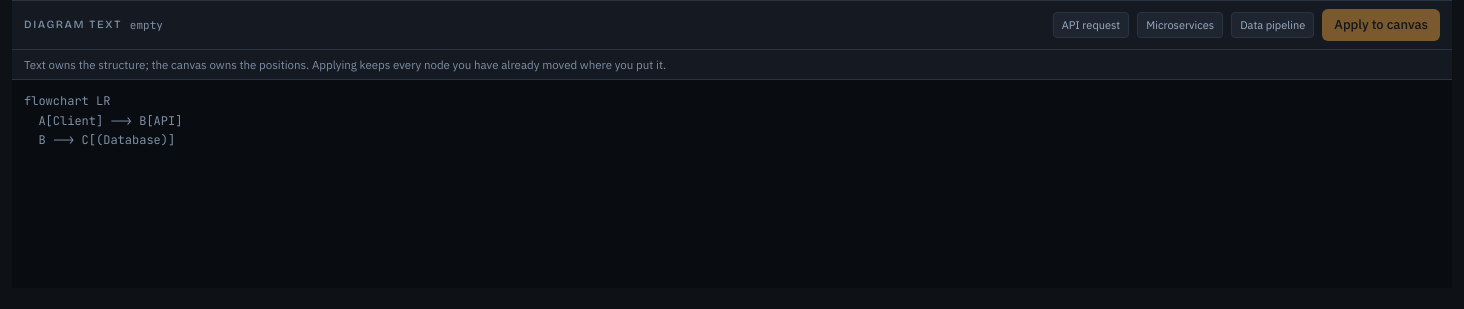
Test case: DiagramEditor › counts what a valid definition will produce
Clear the text box named "Diagram definition" at (732, 184), box [12, 80, 1452, 288]
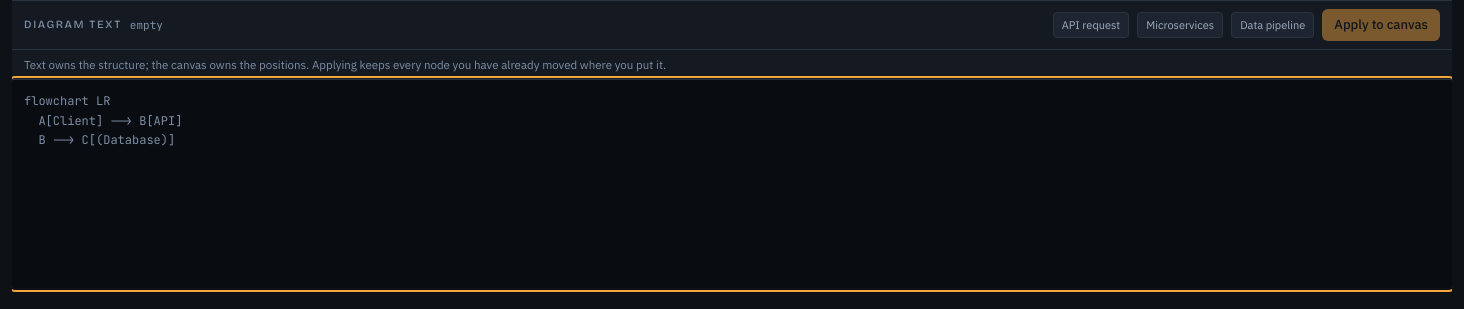
Type keys "flowchart LR   A[Client] --> B[API]   B --> C[(Database)]"
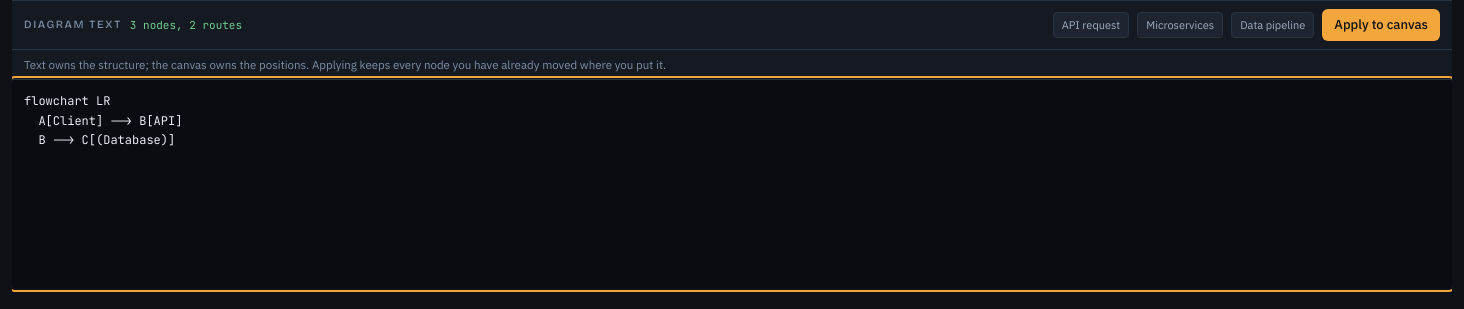
Expected: the text "3 nodes, 2 routes" is shown, [130, 17, 242, 33]
